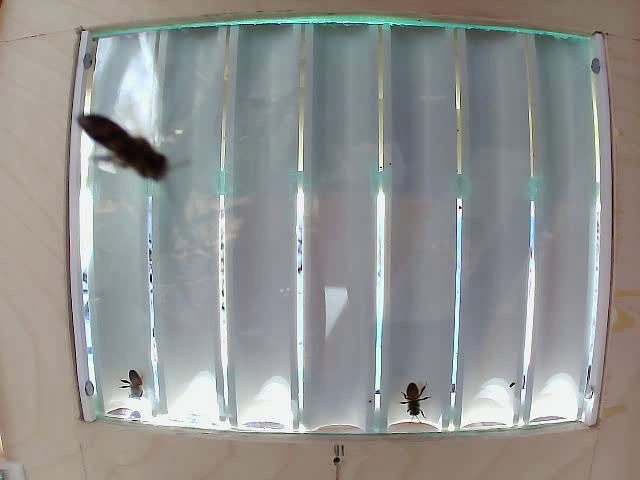bee: (116, 358, 170, 403), (388, 369, 432, 415)
